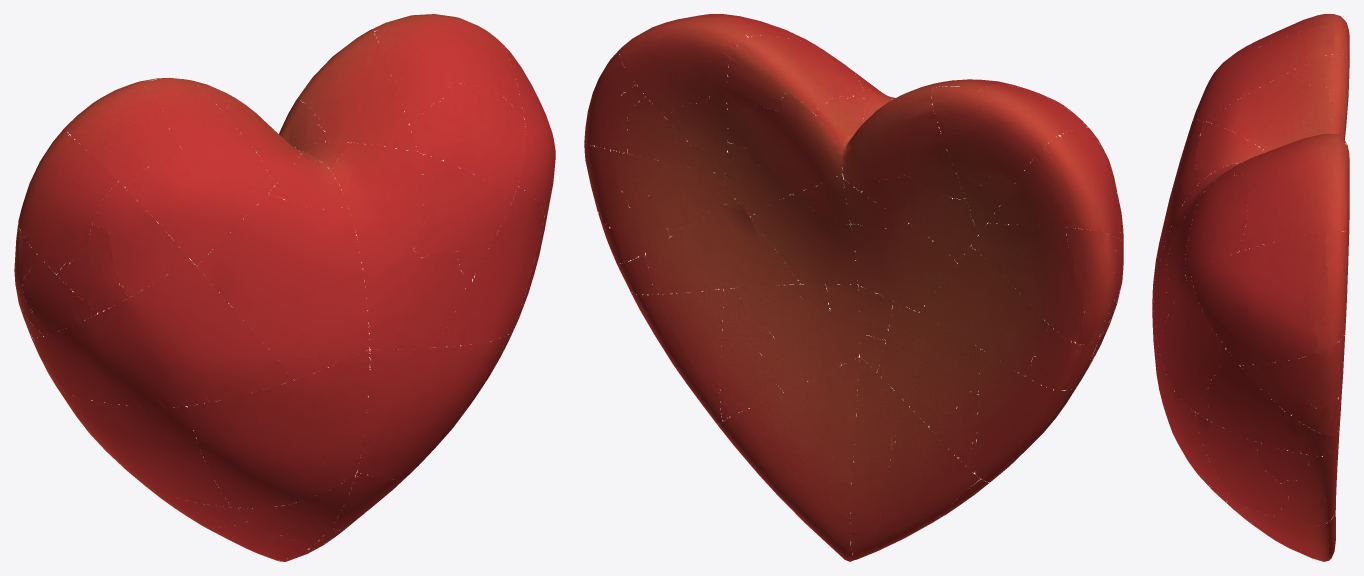
File: corazon.glb
3 renders of one model, left to right at view 1: azimuth 30°, elevation 25°; view 2: azimuth 150°, elevation 25°; view 3: azimuth 270°, elevation 25°, orthographic. The views are drawn at different scales.
Parts seen in each view (by area): view 1: tripo_node_cb857e47-abca-4898-95ea-4ae54cf79bfc; view 2: tripo_node_cb857e47-abca-4898-95ea-4ae54cf79bfc; view 3: tripo_node_cb857e47-abca-4898-95ea-4ae54cf79bfc.
Boxes of the visible parts, x1=… form: tripo_node_cb857e47-abca-4898-95ea-4ae54cf79bfc: x1=14, y1=14, x2=555, y2=561; tripo_node_cb857e47-abca-4898-95ea-4ae54cf79bfc: x1=584, y1=14, x2=1123, y2=561; tripo_node_cb857e47-abca-4898-95ea-4ae54cf79bfc: x1=1152, y1=14, x2=1349, y2=561.
Bounding box in the file's own units: 0.9801 × 0.9054 × 0.341.
1 material, 1 textured.
